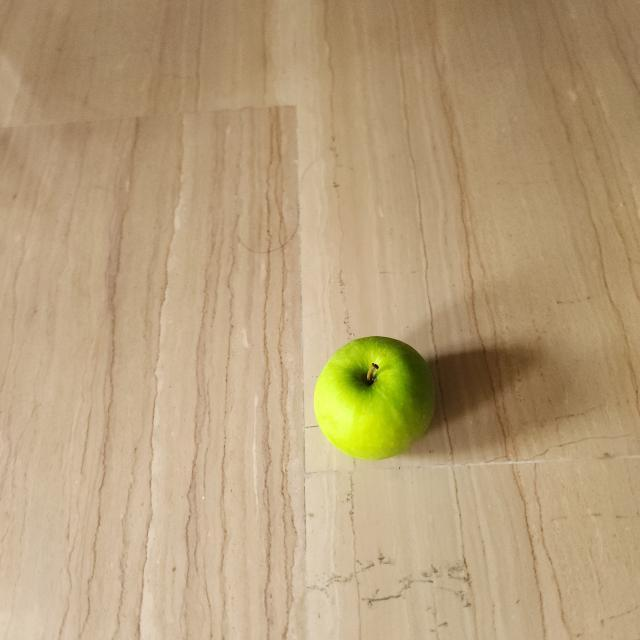apple: (308, 326, 445, 470)
